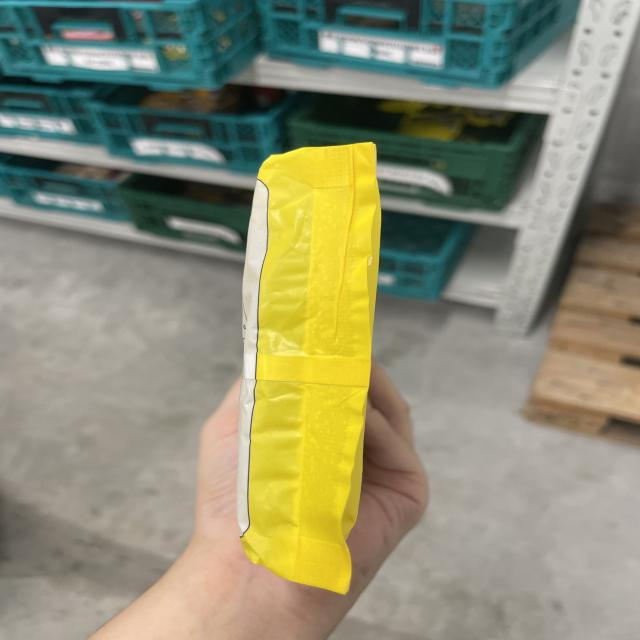object_name: (254, 156, 362, 586)
